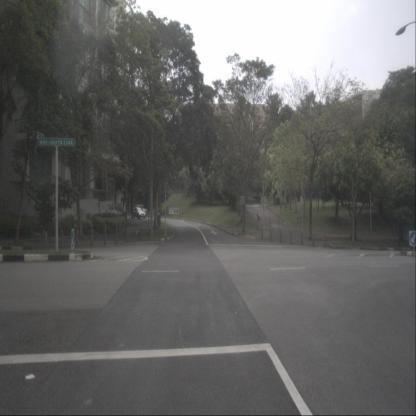vehicle-bicycle: (132, 228, 142, 237)
vehicle-car: (132, 206, 146, 219), (135, 204, 148, 217)
